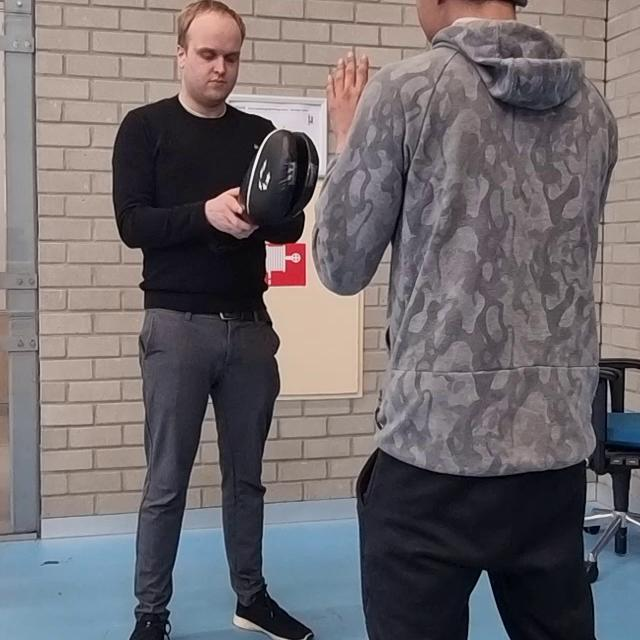paddle: (237, 127, 320, 226)
